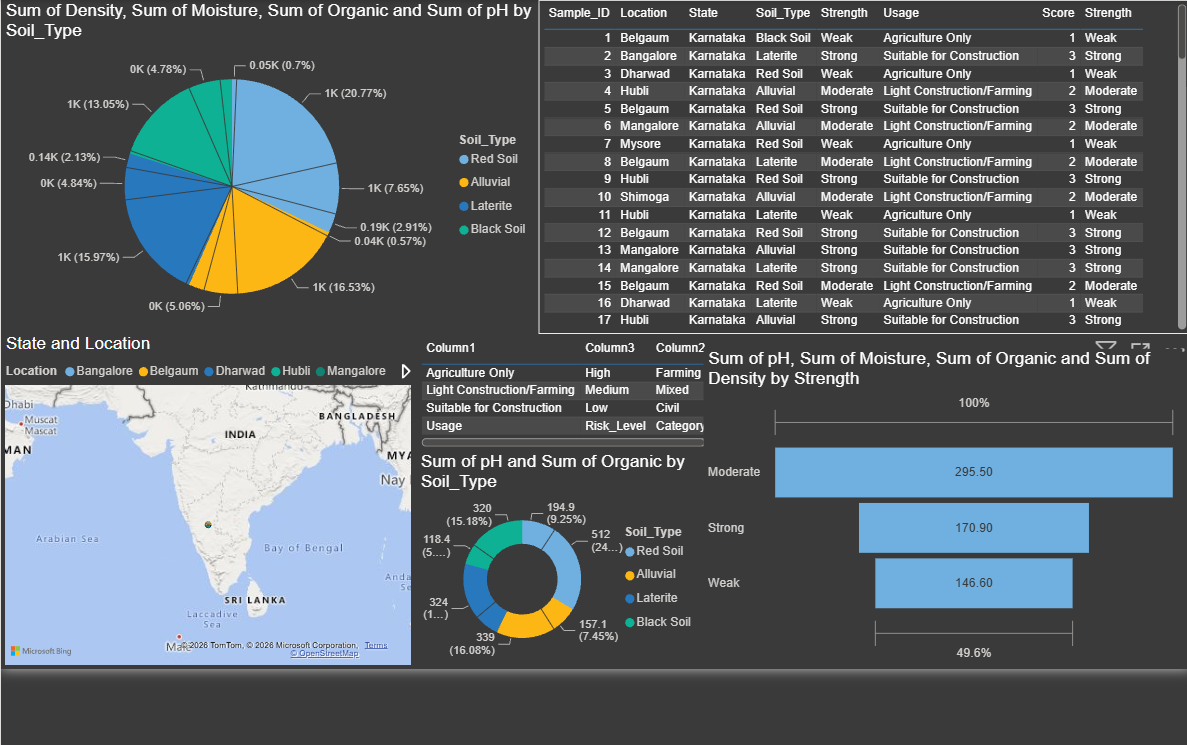

This screenshot's page, from the dashboard's own definition file:
{"tool":"powerbi","page":{"name":"Page 1","canvas":[1280,720],"ordinal":0},"visuals":[{"type":"pieChart","fields":{"Category":["Location_Data.Soil_Type"],"Y":["Sum(Soil_Data.Density)","Sum(Soil_Data.Moisture)","Sum(Soil_Data.Organic)","Sum(Soil_Data.pH)"]},"box":[0,0,578.3,360],"z":0},{"type":"tableEx","fields":{"Values":["Soil_Data.Sample_ID","Location_Data.Location","Location_Data.State","Location_Data.Soil_Type","Soil_Data.Strength","Soil_Data.Usage","Strength_Score.Score","Strength_Score.Strength"]},"box":[578.2,0,702.1,359.3],"z":1000},{"type":"tableEx","fields":{"Values":["Usage_Details.Column1","Usage_Details.Column3","Usage_Details.Column2"]},"box":[446,360.7,319.4,125.3],"z":2000},{"type":"map","fields":{"Series":["Location_Data.Location"],"Category":["Location_Data.State"]},"box":[0,359.3,446,360.7],"z":3000},{"type":"funnel","fields":{"Category":["Soil_Data.Strength","Soil_Data.Usage"],"Y":["Sum(Soil_Data.pH)"]},"box":[755.8,375.2,515.1,344.3],"z":3001},{"type":"donutChart","fields":{"Category":["Location_Data.Soil_Type"],"Y":["Sum(Soil_Data.pH)","Sum(Soil_Data.Organic)"]},"box":[446,486,310,234],"z":3002}]}

Visuals, with their boxes on the page's 1280x720 design canvas (x1, y1, x2, y2). These are canvas units, not pixel positions in the 1187x745 screenshot, which may show the page scaled, cropped or inside an application window:
pieChart - Location_Data.Soil_Type x Sum(Soil_Data.Density): x1=0, y1=0, x2=578, y2=360
tableEx - Soil_Data.Sample_ID x Location_Data.Location: x1=578, y1=0, x2=1280, y2=359
tableEx - Usage_Details.Column1 x Usage_Details.Column3: x1=446, y1=361, x2=765, y2=486
map - Location_Data.Location x Location_Data.State: x1=0, y1=359, x2=446, y2=720
funnel - Soil_Data.Strength x Soil_Data.Usage: x1=756, y1=375, x2=1271, y2=720
donutChart - Location_Data.Soil_Type x Sum(Soil_Data.pH): x1=446, y1=486, x2=756, y2=720
